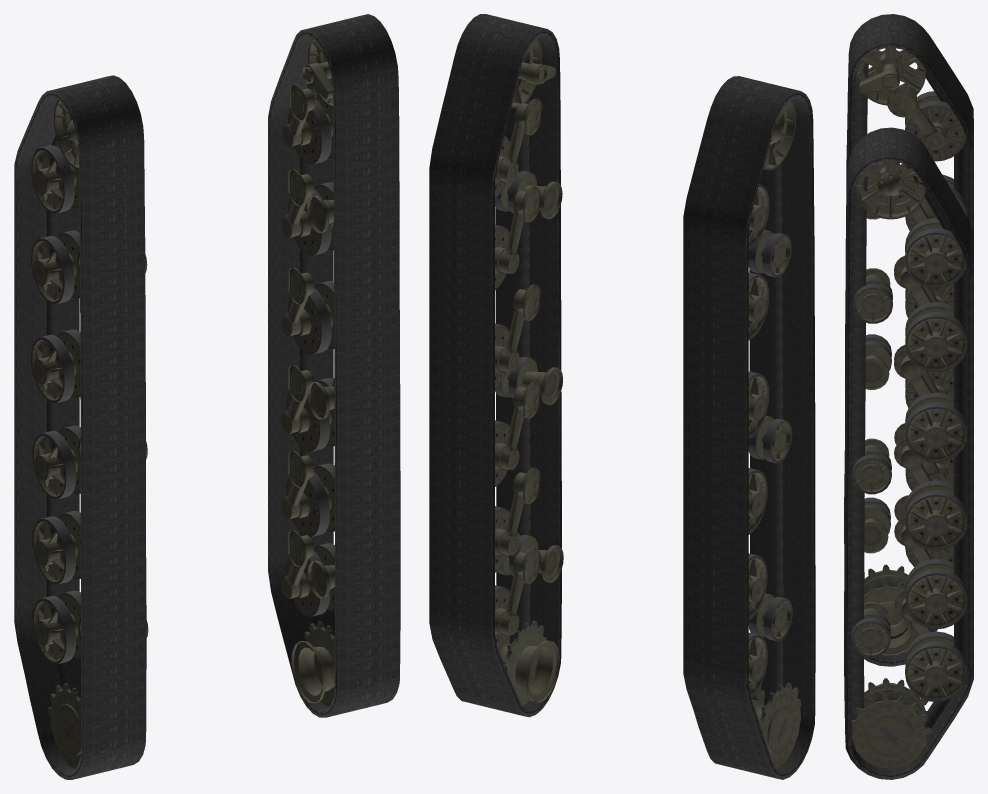
The model's file is Chassis.glb.
The picture shows the model from 3 angles, left to right: view 1: azimuth 30°, elevation 25°; view 2: azimuth 150°, elevation 25°; view 3: azimuth 270°, elevation 25°; orthographic projection. The views are drawn at different scales.
Visible parts, largest first — view 1: set_3_group_0, set_2_group_0, set_0_group_0, set_1_group_0; view 2: set_3_group_0, set_2_group_0, set_0_group_0, set_1_group_0; view 3: set_0_group_0, set_2_group_0, set_1_group_0, set_3_group_0.
Part boxes in pixels (<box>): set_3_group_0: <box>14,75,146,779</box>; set_2_group_0: <box>268,14,400,717</box>; set_0_group_0: <box>281,39,334,706</box>; set_1_group_0: <box>31,99,148,768</box>; set_3_group_0: <box>683,76,815,779</box>; set_2_group_0: <box>429,14,561,717</box>; set_0_group_0: <box>495,38,563,705</box>; set_1_group_0: <box>748,100,800,768</box>; set_0_group_0: <box>851,161,966,768</box>; set_2_group_0: <box>844,127,973,779</box>; set_1_group_0: <box>856,48,966,655</box>; set_3_group_0: <box>844,14,973,666</box>.
Size of the model in its own units: 3.23 by 6.67 by 1.26.
Materials: 4 (4 with a texture image).
